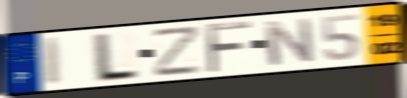5: (320, 12, 360, 62)
F: (204, 20, 255, 75)
I: (43, 35, 63, 87)
L: (92, 30, 142, 84)
N: (261, 16, 317, 68)
Z: (151, 23, 202, 79)
